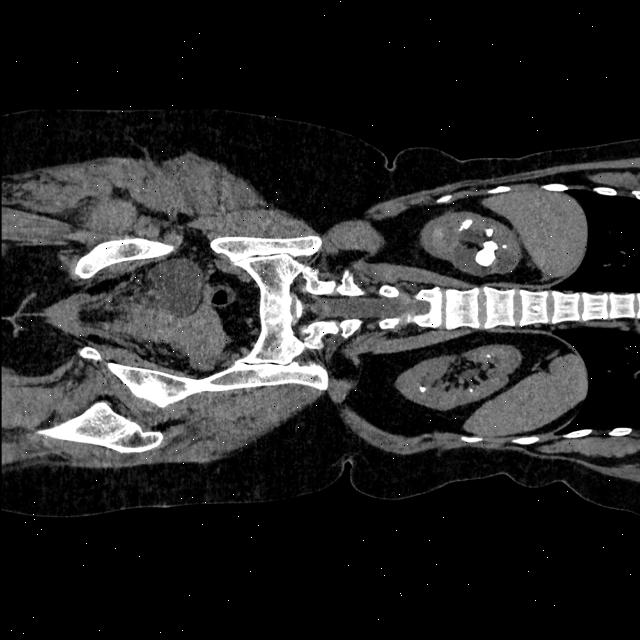kidneystone: (475, 241, 496, 266), (459, 219, 472, 231), (485, 229, 493, 238)
